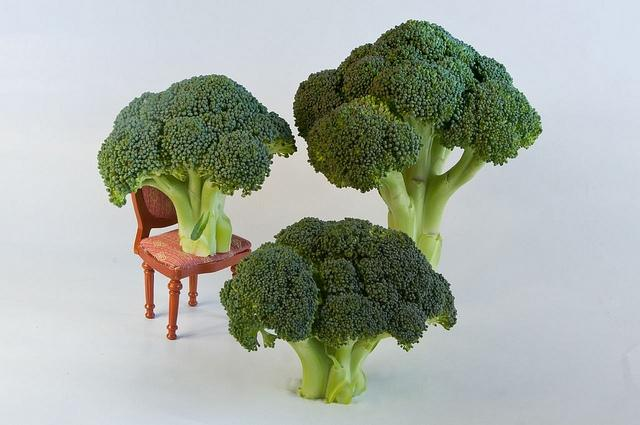broccoli: (294, 18, 544, 269), (218, 217, 458, 406), (97, 74, 297, 258)
